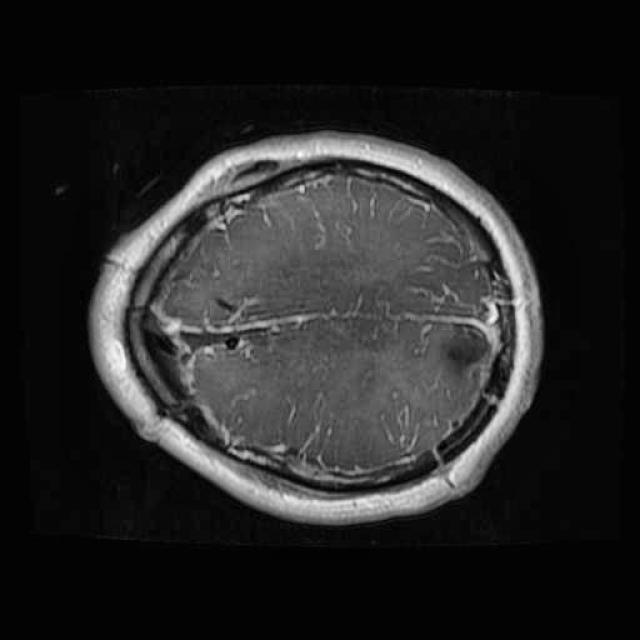Tumor: (421, 306, 511, 396)
